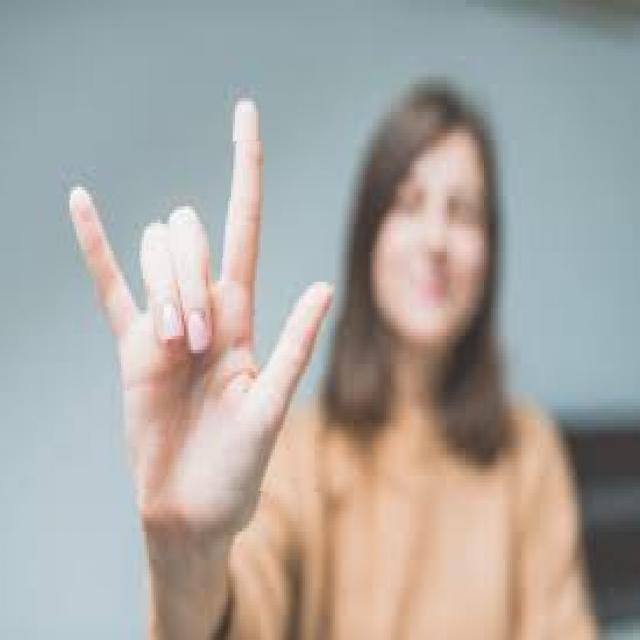I Love You: (43, 139, 332, 491)
